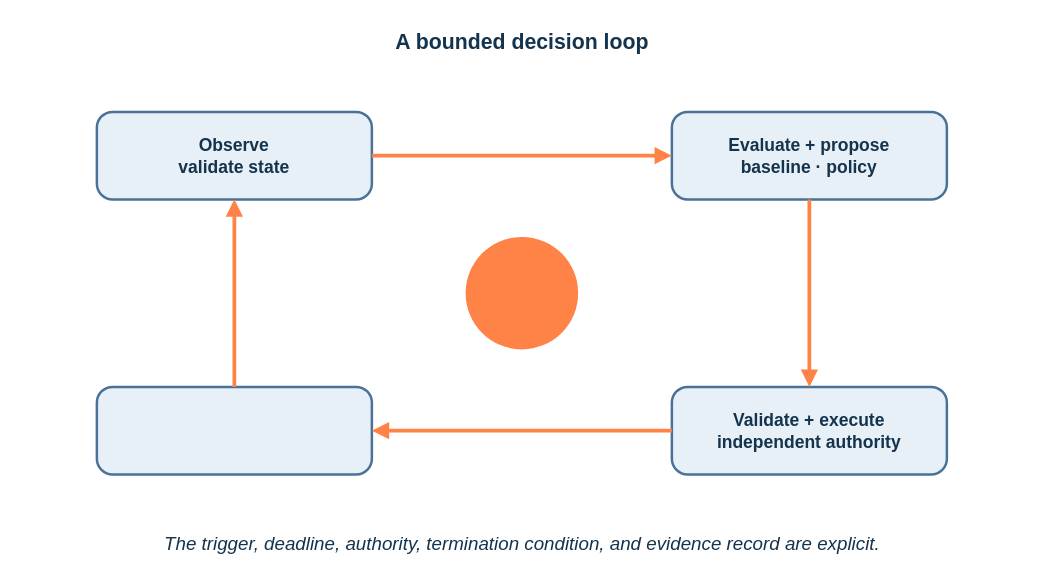
The diagram is 1043 pixels wide and 580 high, and some of its shapes have lost their labels. Each missing label, with the box of its shape:
BOUNDED LOOP: (465, 236, 578, 349)
Measure record outcome: (95, 385, 372, 475)
